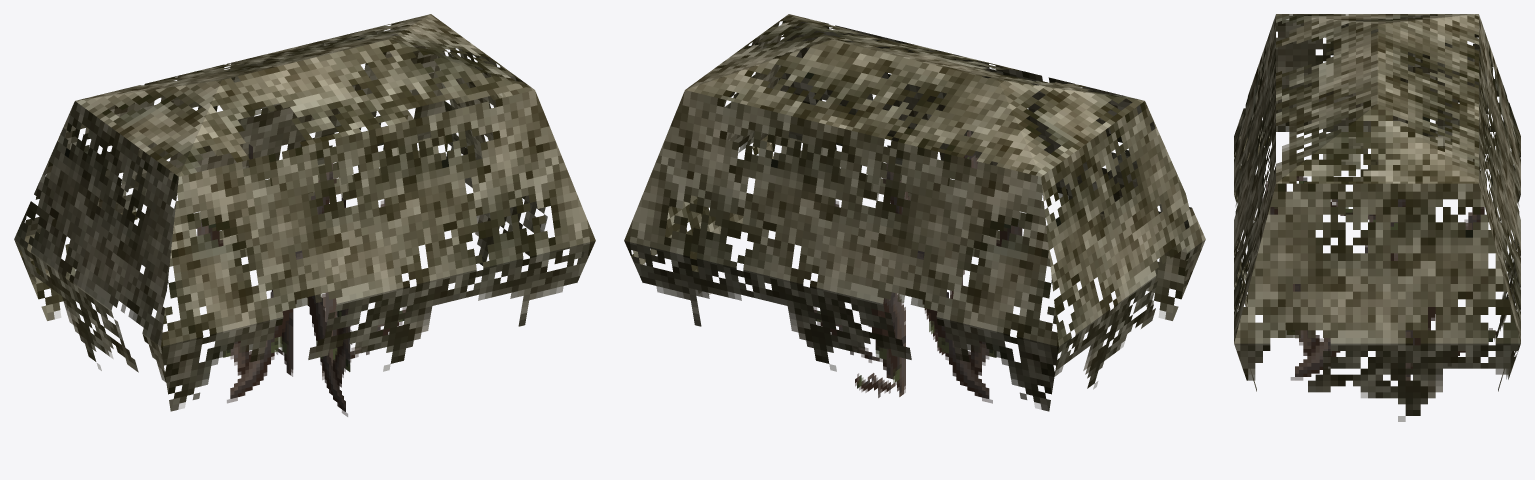
The model's file is bush_long_half_single_roots_dead.glb.
3 renders of one model, left to right at view 1: azimuth 30°, elevation 25°; view 2: azimuth 150°, elevation 25°; view 3: azimuth 270°, elevation 25°, orthographic. The views are drawn at different scales.
Visible parts, largest first — view 1: bush_long_half_single_roots_dead; view 2: bush_long_half_single_roots_dead; view 3: bush_long_half_single_roots_dead.
Boxes of the visible parts, bbox=[...] form: bush_long_half_single_roots_dead: bbox=[14, 14, 595, 416]; bush_long_half_single_roots_dead: bbox=[624, 14, 1205, 411]; bush_long_half_single_roots_dead: bbox=[1234, 14, 1520, 421].
Size of the model in its own units: 1.23 by 0.8765 by 0.7191.
2 materials, 2 textured.
